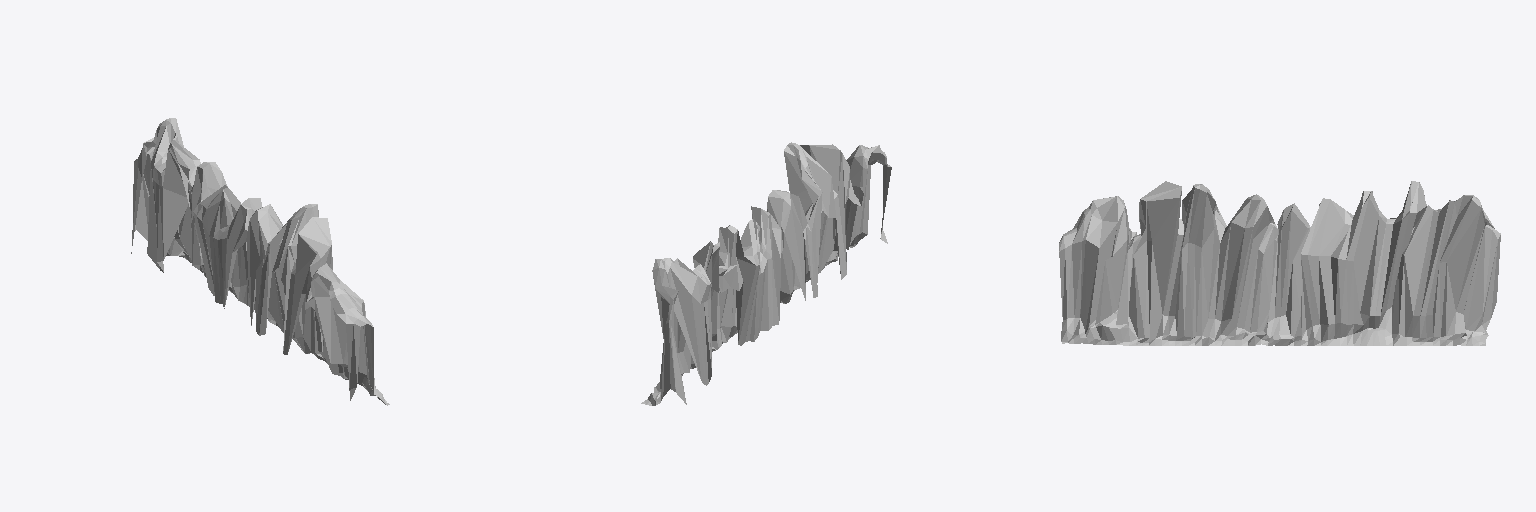
The model's file is border-left.obj.
3 renders of one model, left to right at view 1: azimuth 30°, elevation 25°; view 2: azimuth 150°, elevation 25°; view 3: azimuth 270°, elevation 25°, orthographic.
Parts seen in each view (by area): view 1: Plane.2; view 2: Plane.2; view 3: Plane.2.
Boxes of the visible parts, box(x1,y1,x2,y2) form: Plane.2: box(131, 118, 389, 405); Plane.2: box(641, 142, 891, 405); Plane.2: box(1059, 181, 1500, 345).
Size of the model in its own units: 14.03 by 40.72 by 104.